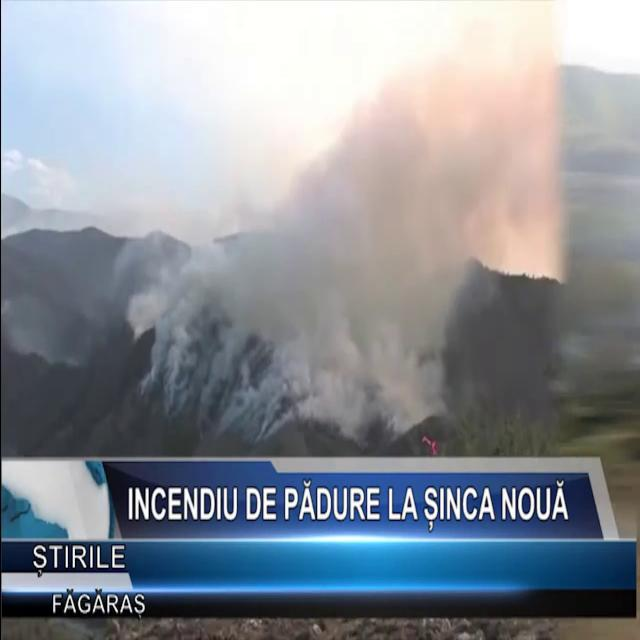Smoke: (126, 1, 610, 453)
